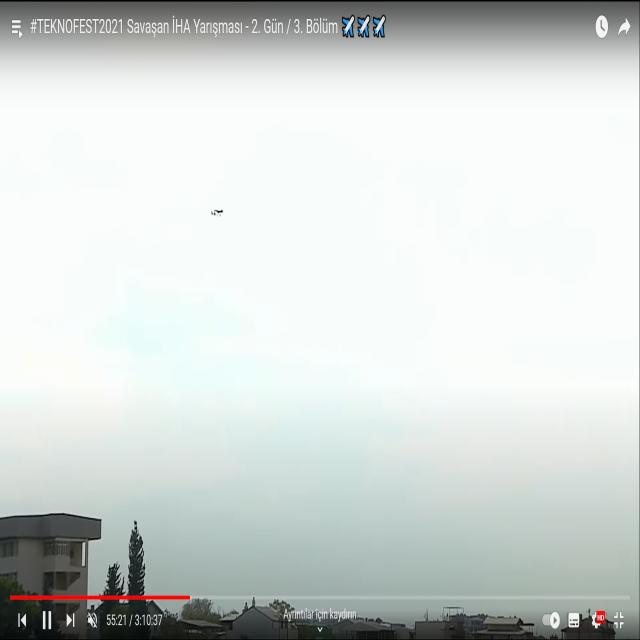iha: (211, 209, 225, 213)
